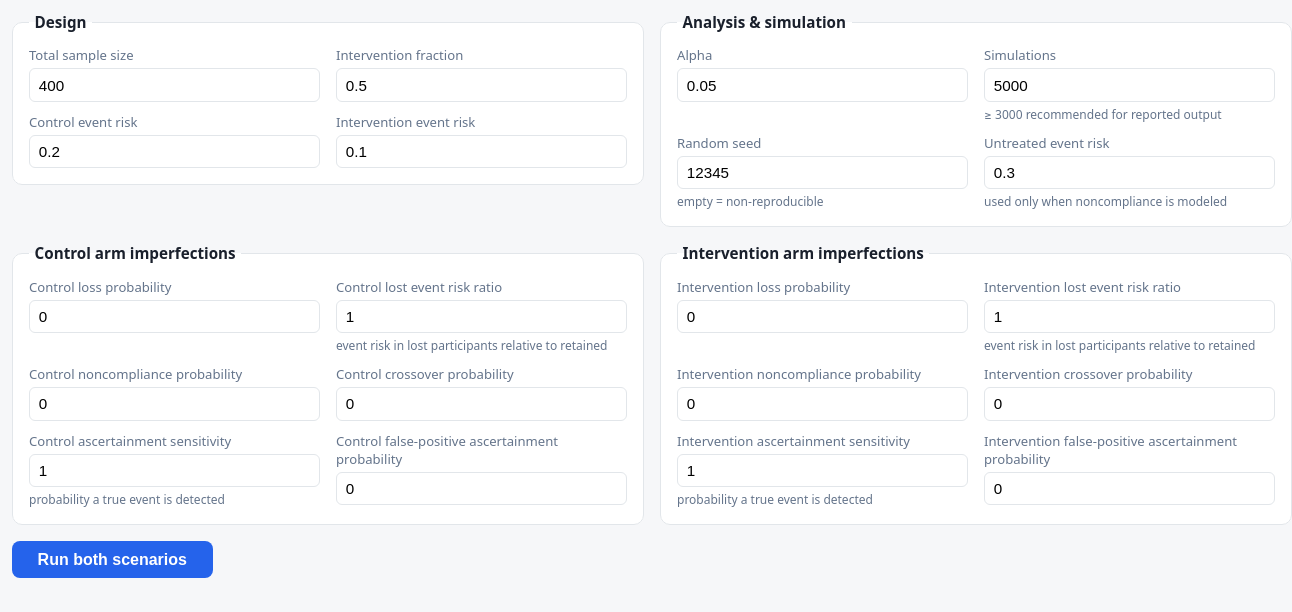
Test: TrialGoesBadly › marks the control-arm loss field on an imperfection-path 422
The width and height of the screenshot is (1292, 612).
Click the button with test id "run-button" at (112,560), box [12,541,212,578]
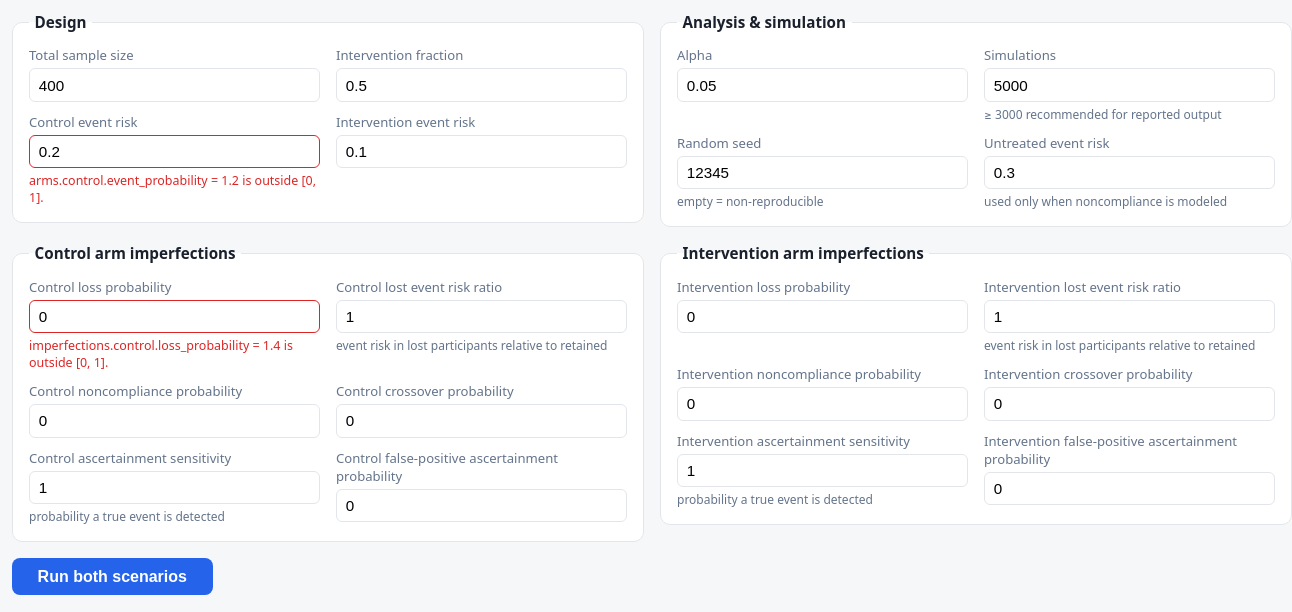
Check: the message "arms.control.event_probability = 1.2 is outside [0, 1]." is shown, box [29,172,320,206]
